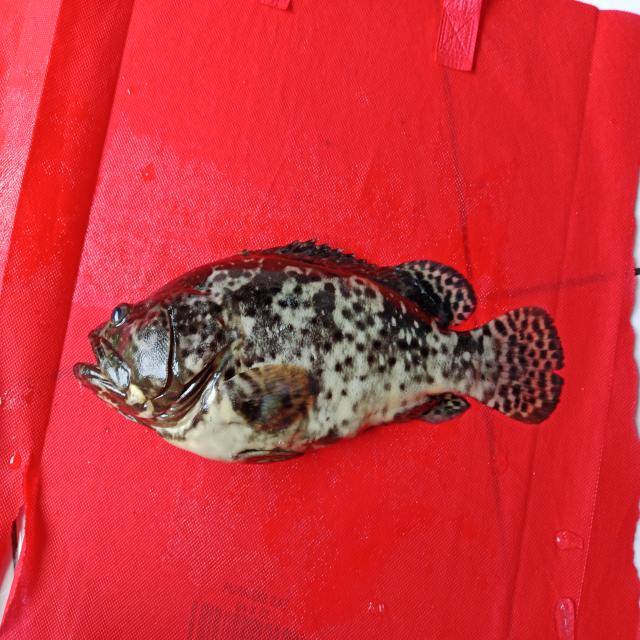ikan: (61, 218, 580, 474)
